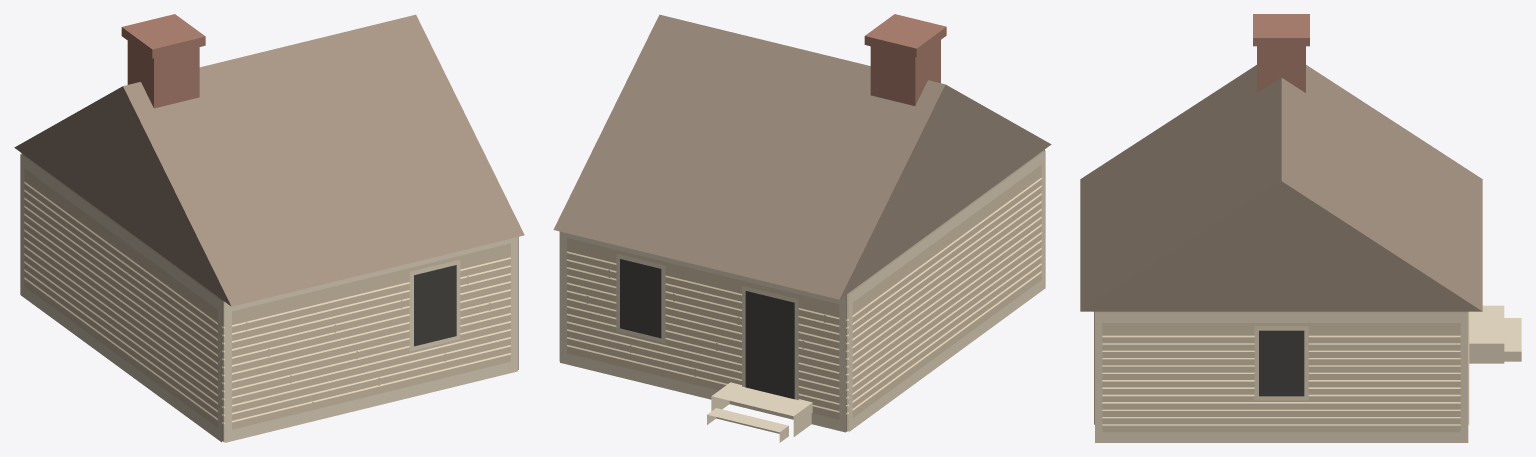
The model's file is recon_1835_blk_south_water_wells_d3_04__inferred_1835.glb.
3 renders of one model, left to right at view 1: azimuth 30°, elevation 25°; view 2: azimuth 150°, elevation 25°; view 3: azimuth 270°, elevation 25°, orthographic. The views are drawn at different scales.
Visible parts, largest first — view 1: recon_1835_blk_south_water_wells_d3_04__inferred_1835; view 2: recon_1835_blk_south_water_wells_d3_04__inferred_1835; view 3: recon_1835_blk_south_water_wells_d3_04__inferred_1835.
Part boxes in pixels (x1=…): recon_1835_blk_south_water_wells_d3_04__inferred_1835: x1=14, y1=14, x2=524, y2=442; recon_1835_blk_south_water_wells_d3_04__inferred_1835: x1=553, y1=14, x2=1051, y2=442; recon_1835_blk_south_water_wells_d3_04__inferred_1835: x1=1080, y1=14, x2=1521, y2=442.
Bounding box in the file's own units: 5.47 × 5.74 × 7.59.
